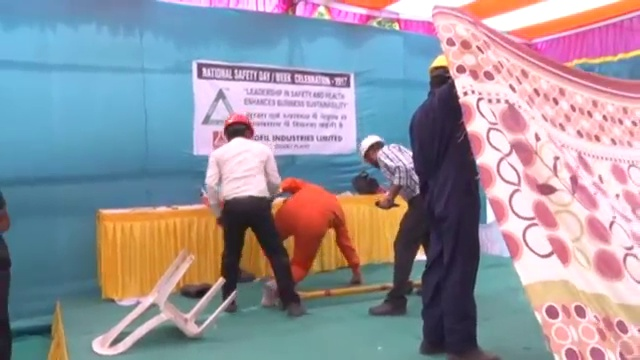helmet: (222, 110, 257, 138), (357, 133, 384, 160), (428, 52, 451, 72)
helmet_on: (428, 51, 452, 97), (221, 114, 257, 144), (358, 133, 387, 169)
person: (406, 50, 500, 360), (200, 108, 308, 315), (356, 132, 429, 317), (264, 176, 364, 302)
